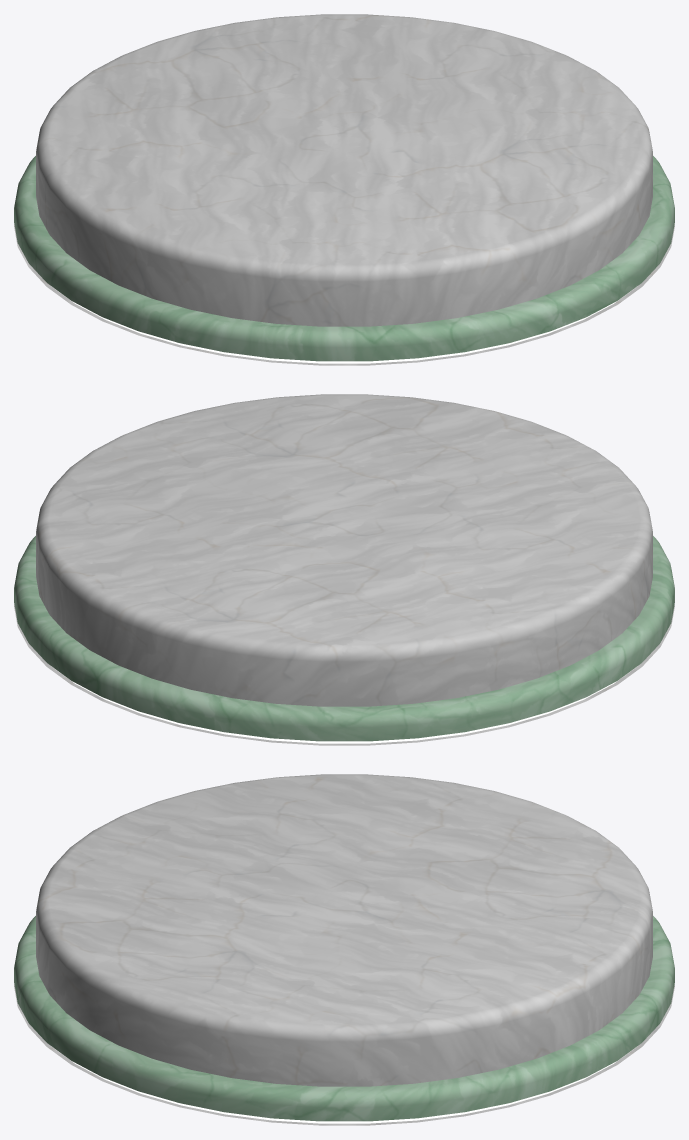
Rendered from Display_Stand.glb.
3 renders of one model, top to bottom at view 1: azimuth 30°, elevation 25°; view 2: azimuth 150°, elevation 25°; view 3: azimuth 270°, elevation 25°, orthographic.
Parts seen in each view (by area): view 1: CentralDisplayStand; view 2: CentralDisplayStand; view 3: CentralDisplayStand.
Boxes of the visible parts, left/top/right/bottom form: CentralDisplayStand: left=14, top=14, right=674, bottom=365; CentralDisplayStand: left=14, top=394, right=674, bottom=745; CentralDisplayStand: left=14, top=774, right=674, bottom=1125.
Size of what is drawn, in the model's own units: 6.72 by 0.9684 by 6.74.
Materials: 3 (2 with a texture image).
